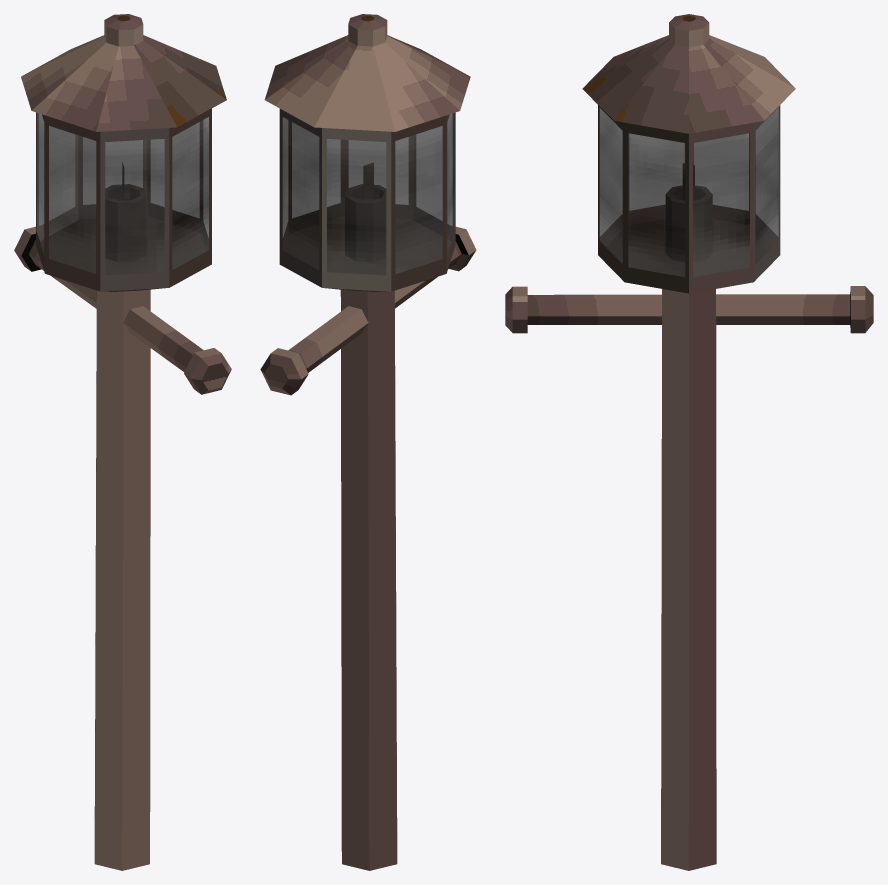
File: lamp_post_889x01.gltf
The picture shows the model from 3 angles, left to right: view 1: azimuth 30°, elevation 25°; view 2: azimuth 150°, elevation 25°; view 3: azimuth 270°, elevation 25°; orthographic projection.
Parts seen in each view (by area): view 1: lamp_post_889x01; view 2: lamp_post_889x01; view 3: lamp_post_889x01.
Part boxes in pixels (x1,y1,x2,y2): lamp_post_889x01: [14, 14, 231, 870]; lamp_post_889x01: [260, 14, 476, 870]; lamp_post_889x01: [505, 14, 873, 870].
Size of the model in its own units: 1.6 by 6.95 by 2.76.
2 materials, 2 textured.
